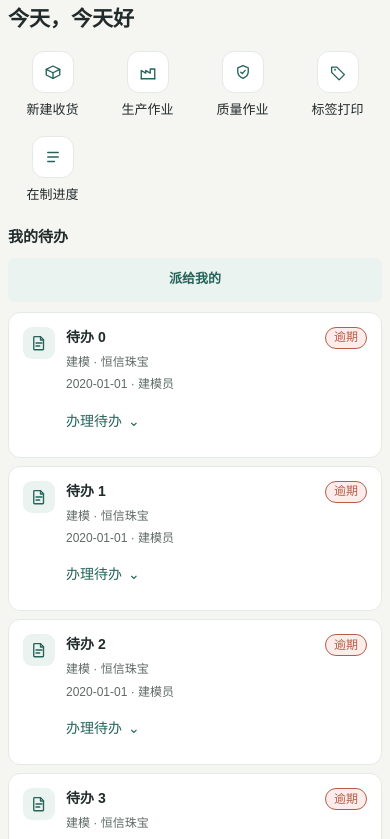
Test case: M1Dashboard › 大量待办先显示摘要，展开和收起不丢办理草稿，也不提交业务
This screenshot has width=390, height=839.
Replace the text in the field named "卡片结果说明" with "保留办理说明" at (94, 420), box 66,412 -> 122,428
(page scrolled)
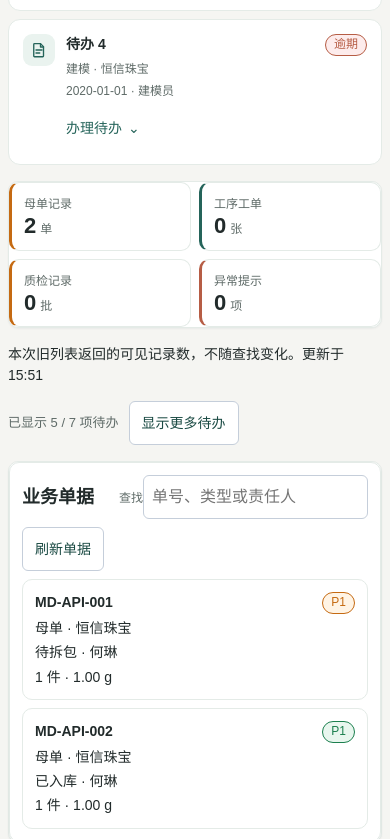
Click the button "显示更多待办" at (184, 423), box 128,401 -> 238,445
(page scrolled)
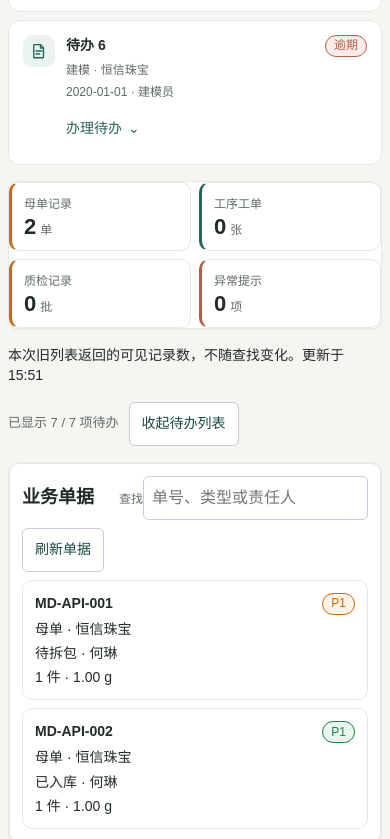
Expected: the number of elements with class "desk-task-card" is 7
Click the button "收起待办列表" at (184, 424), box 128,402 -> 238,446
(page scrolled)
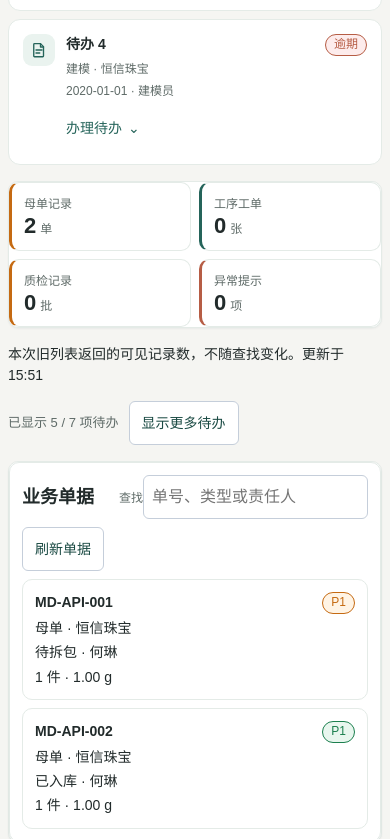
Expected: the number of elements with class "desk-task-card" is 5
